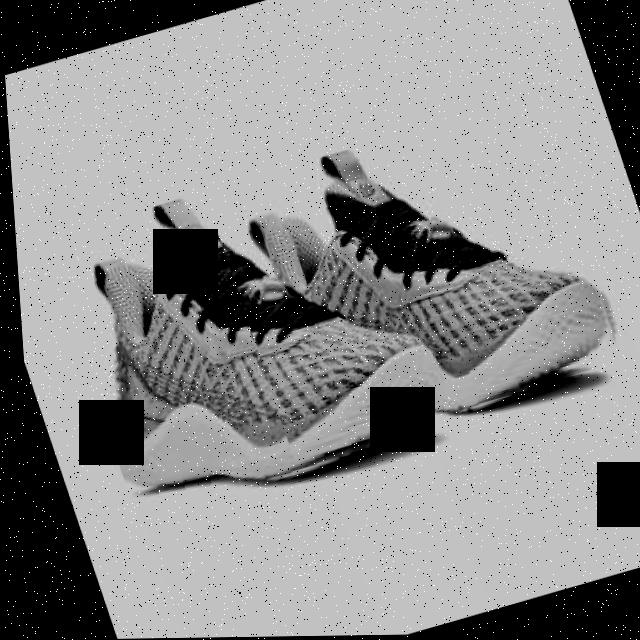shoe: (34, 144, 465, 524), (196, 94, 630, 463)
